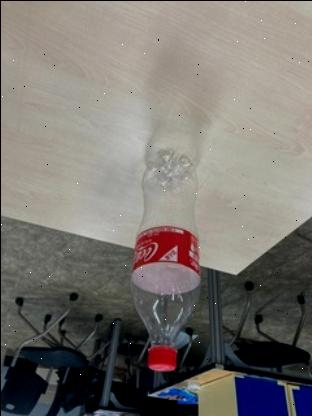Plastic Bottle: (131, 144, 201, 372)
